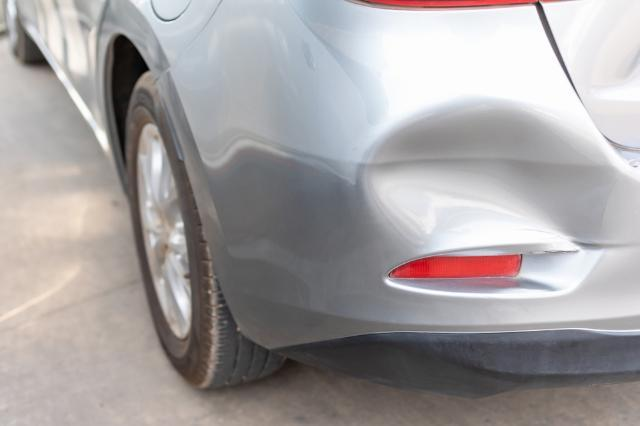dent: (368, 105, 614, 247)
